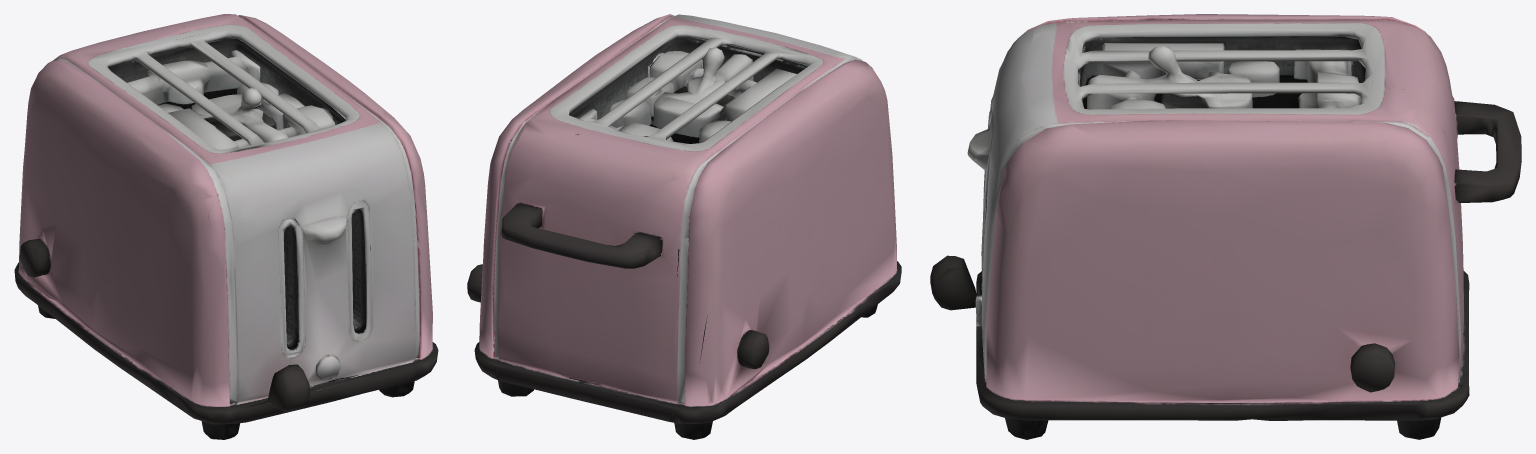
Rendered from toaster.glb.
3 views of the same model, side by side, from view 1: azimuth 30°, elevation 25°; view 2: azimuth 150°, elevation 25°; view 3: azimuth 270°, elevation 25° (orthographic). The views are drawn at different scales.
Visible parts, largest first — view 1: toaster; view 2: toaster; view 3: toaster.
Part boxes in pixels (<box>): toaster: <box>14,14,438,439</box>; toaster: <box>467,14,901,439</box>; toaster: <box>930,14,1521,439</box>.
Size of the model in its own units: 0.197 by 0.1875 by 0.2998.
Materials: 1 (1 with a texture image).
